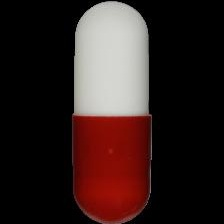21695-664: (0, 0, 224, 224)
